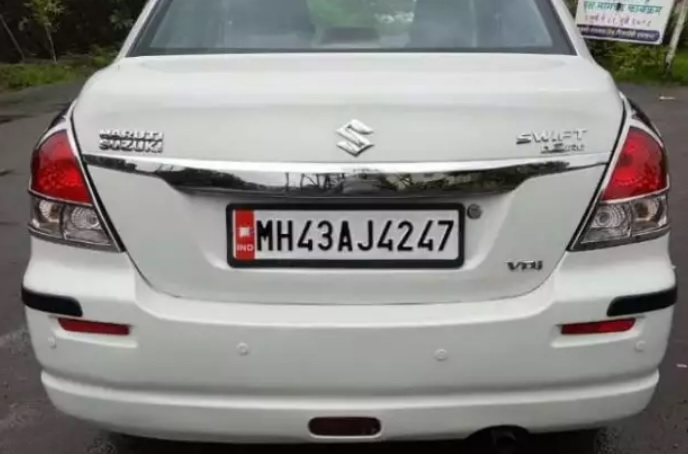licenseplate: (221, 201, 468, 271)
